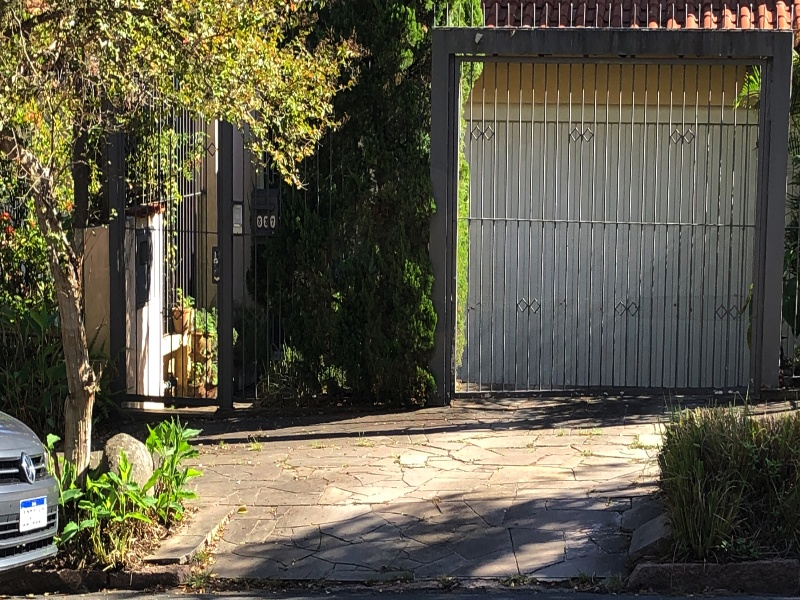g50: (210, 521, 625, 600)
